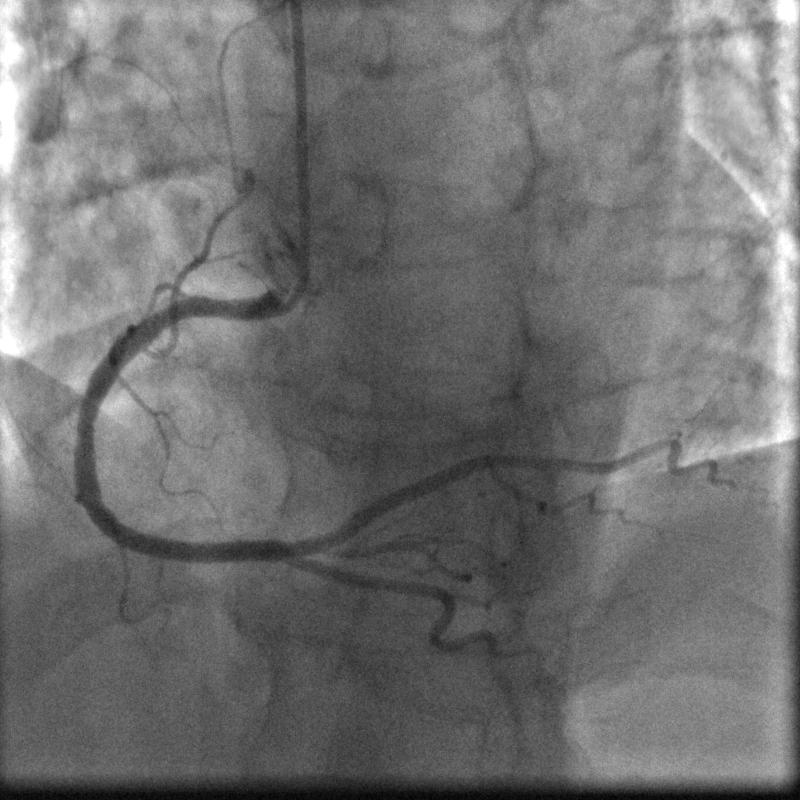Stenosis: (68, 400, 103, 450)
